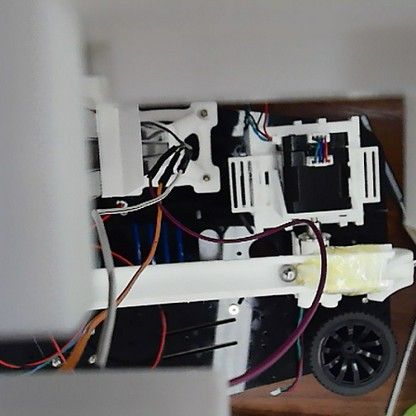ironball: (275, 262, 297, 284)
